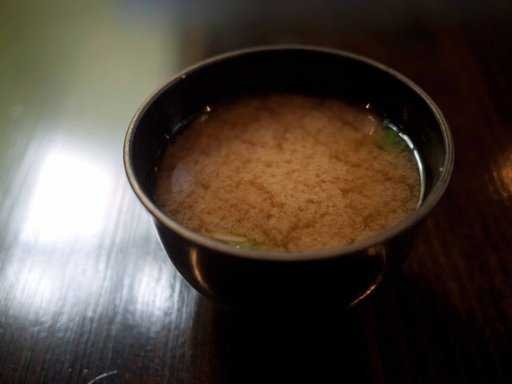soup: (167, 83, 413, 243)
